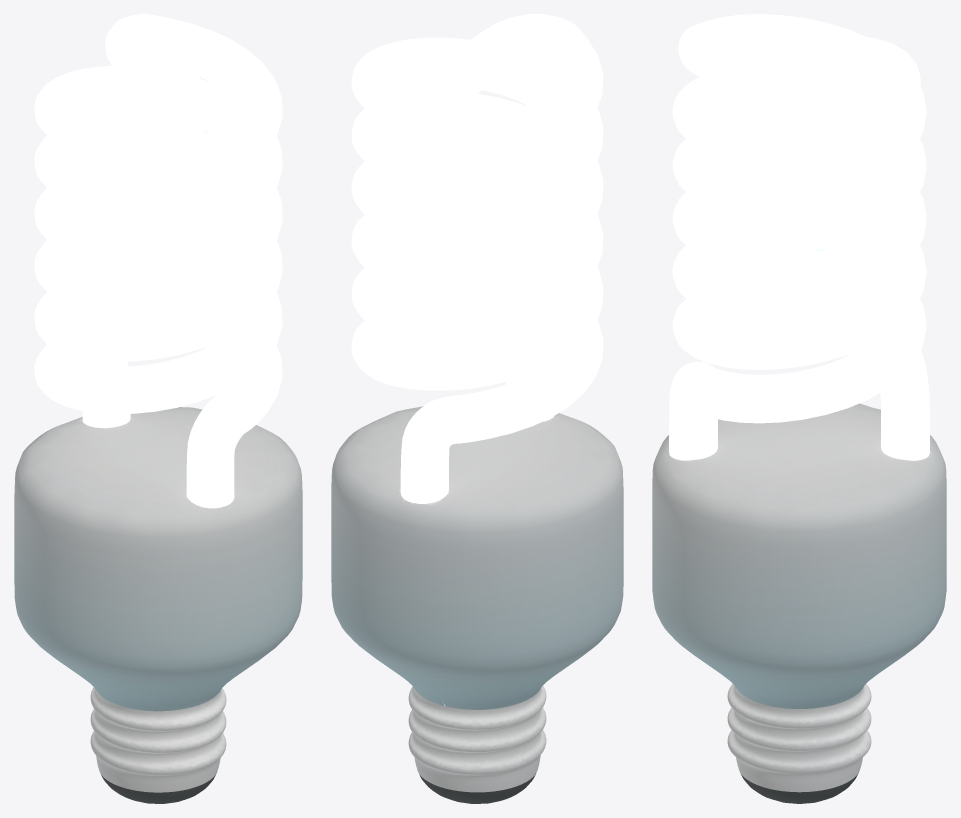
The model's file is spiral_bulb.glb.
3 renders of one model, left to right at view 1: azimuth 30°, elevation 25°; view 2: azimuth 150°, elevation 25°; view 3: azimuth 270°, elevation 25°, orthographic. The views are drawn at different scales.
Parts seen in each view (by area): view 1: spiral bulb; view 2: spiral bulb; view 3: spiral bulb.
Part boxes in pixels (x1=…): spiral bulb: x1=14, y1=14, x2=302, y2=803; spiral bulb: x1=331, y1=14, x2=623, y2=803; spiral bulb: x1=652, y1=14, x2=946, y2=803.
Size of the model in its own units: 3.76 by 10.65 by 3.76.
1 material, 1 textured.
